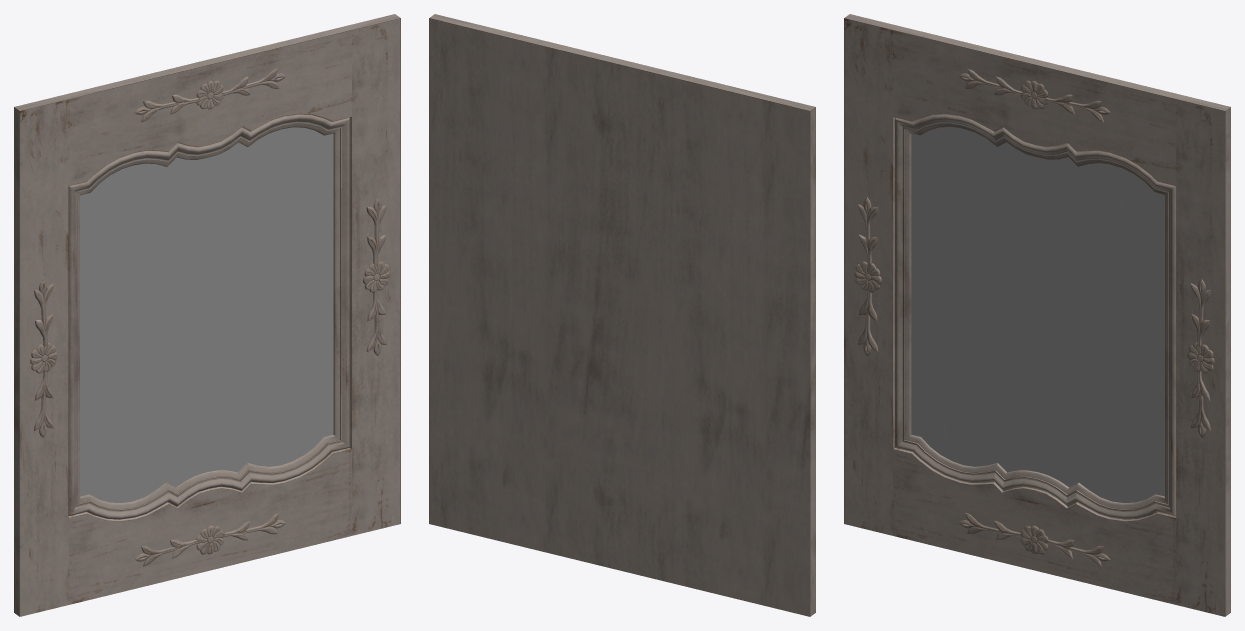
The model's file is example140.gltf.
3 renders of one model, left to right at view 1: azimuth 30°, elevation 25°; view 2: azimuth 150°, elevation 25°; view 3: azimuth 330°, elevation 25°, orthographic.
Bounding box in the file's own units: 78 × 98.95 × 2.34.
Materials: 2 (1 with a texture image).
